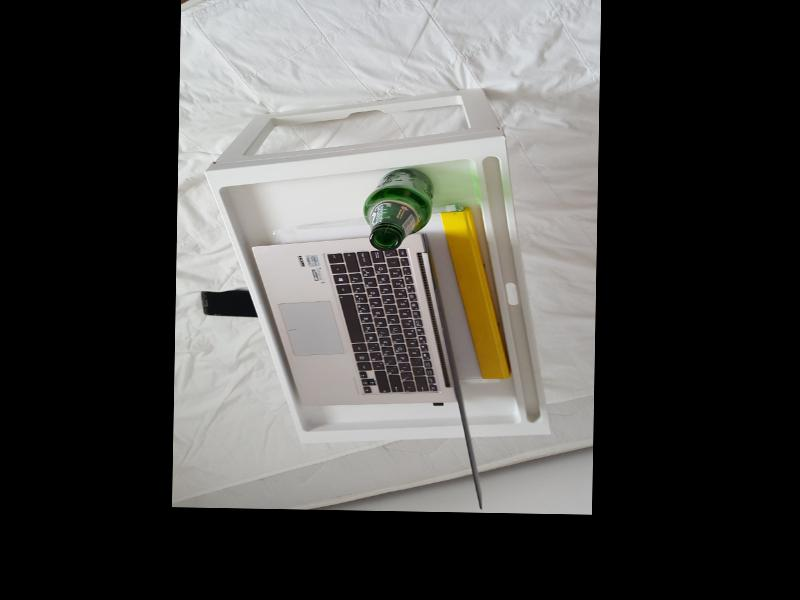Beer: (362, 166, 433, 250)
